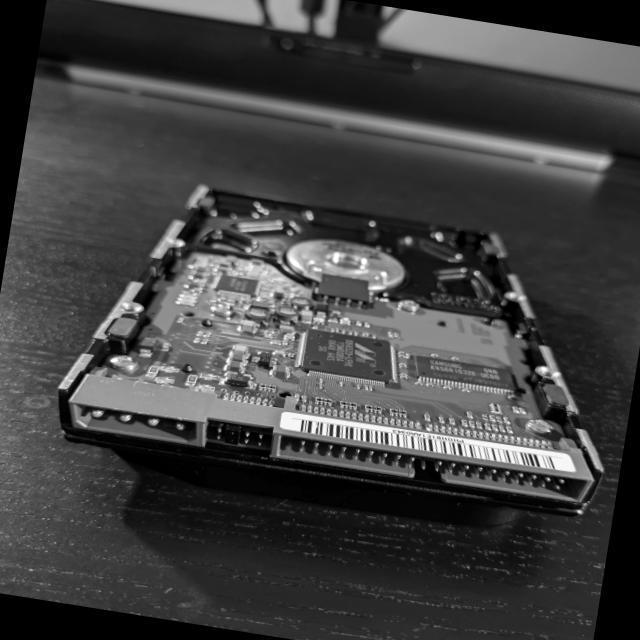DISK: (43, 163, 640, 548)
